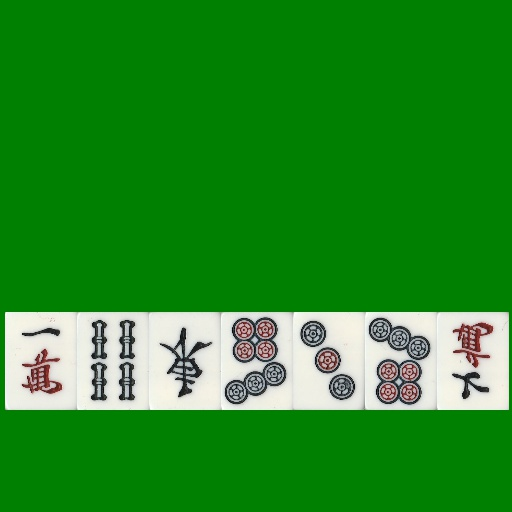1m: (5, 312, 77, 410)
3p: (293, 312, 365, 410)
4s: (77, 312, 149, 410)
7m: (437, 312, 509, 410)
7p: (221, 312, 293, 410), (365, 312, 437, 410)
east: (149, 312, 221, 410)
